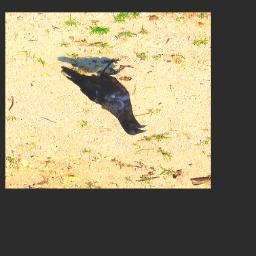Crow: (61, 59, 147, 136)
